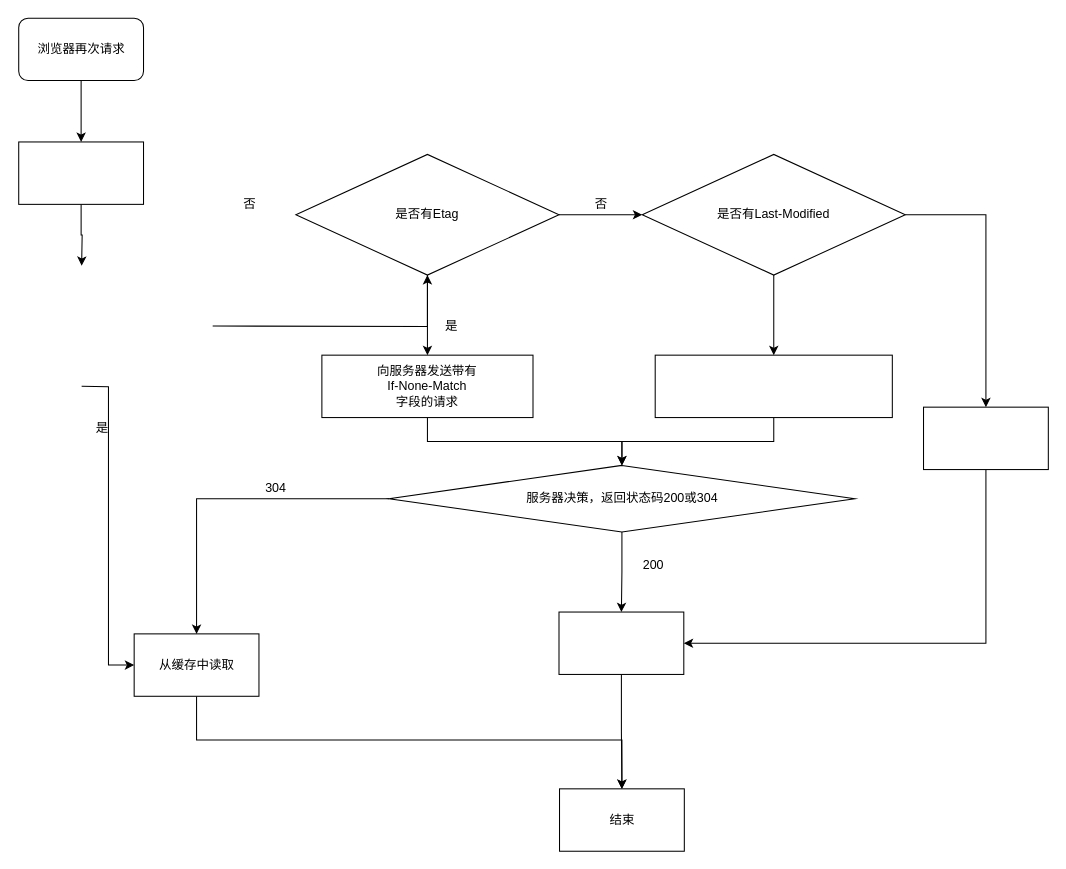
Image size: 1066x869. Some labels were removed from this diagram. Each missing label, with the centre of its shape:
"向web服务器请求" belongs at [985,438].
"向服务器发送带有 If-Modified-Since 字段的请求" belongs at [773,386].
"有缓存" belongs at [81,172].
"请求响应、缓存新的文件" belongs at [621,642].
